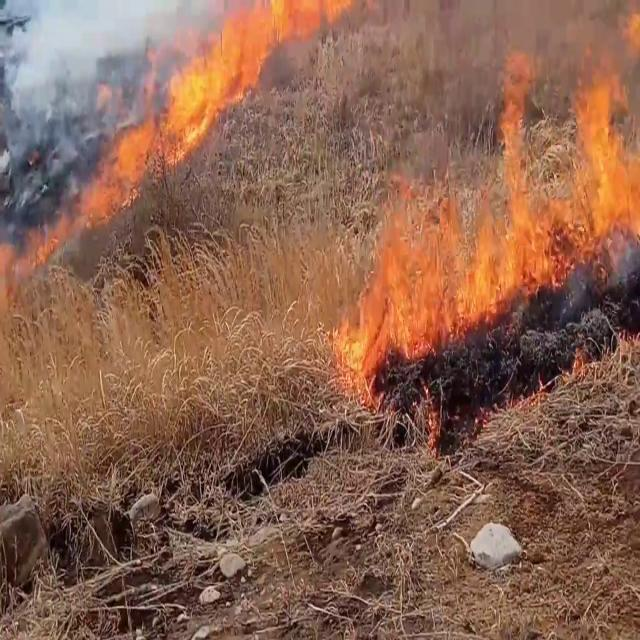Fire: (332, 11, 640, 392), (76, 0, 289, 222)
Smoke: (2, 0, 153, 172)
